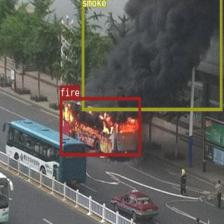fire: (60, 96, 140, 156)
smoke: (81, 0, 222, 110)
